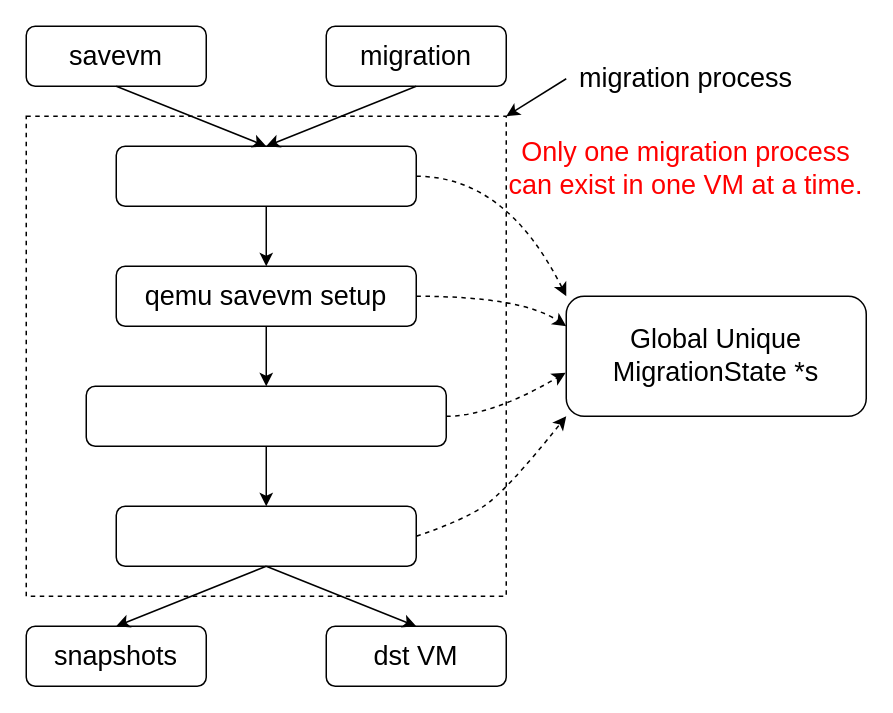
This 893x713 diagram has some shape labels left out. The centre of each missing label's shape, as x and y in pixels:
"qemu savevm header" goes at [265,175].
"qemu savevm live iterate" goes at [265,415].
"qemu savevm vmsd" goes at [265,535].
